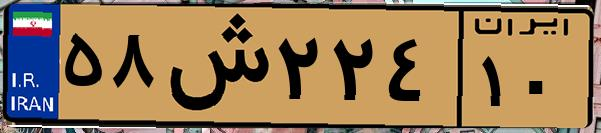0: (525, 38, 570, 115)
1: (475, 38, 525, 113)
2: (270, 28, 330, 110), (330, 28, 385, 110)
4: (385, 28, 445, 110)
5: (57, 26, 110, 100)
8: (110, 28, 158, 98)
ش: (158, 12, 270, 120)
